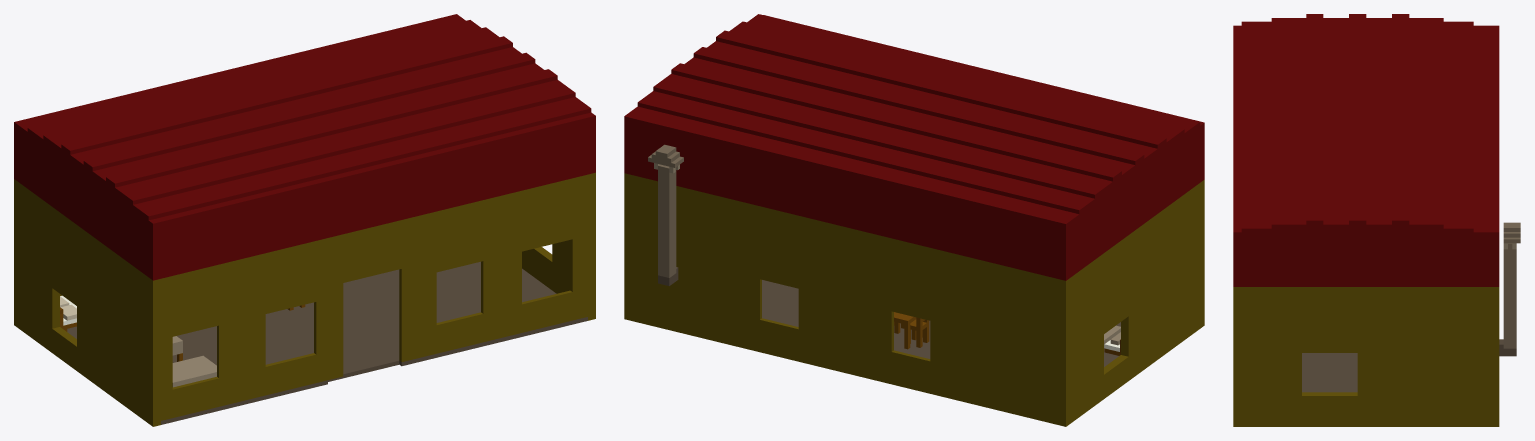
File: uncleHouse.obj
The picture shows the model from 3 angles, left to right: view 1: azimuth 30°, elevation 25°; view 2: azimuth 150°, elevation 25°; view 3: azimuth 270°, elevation 25°; orthographic projection. The views are drawn at different scales.
Bounding box in the file's own units: 114 × 53 × 67.
1 material, 1 textured.
